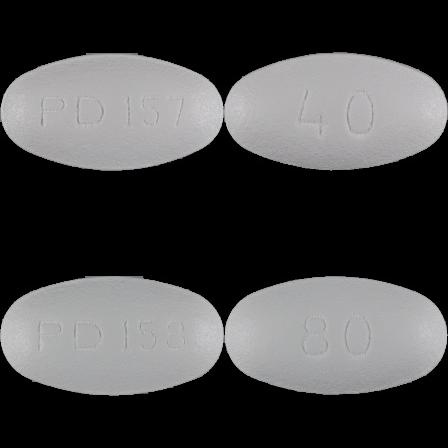0071-0157: (0, 0, 224, 224)
